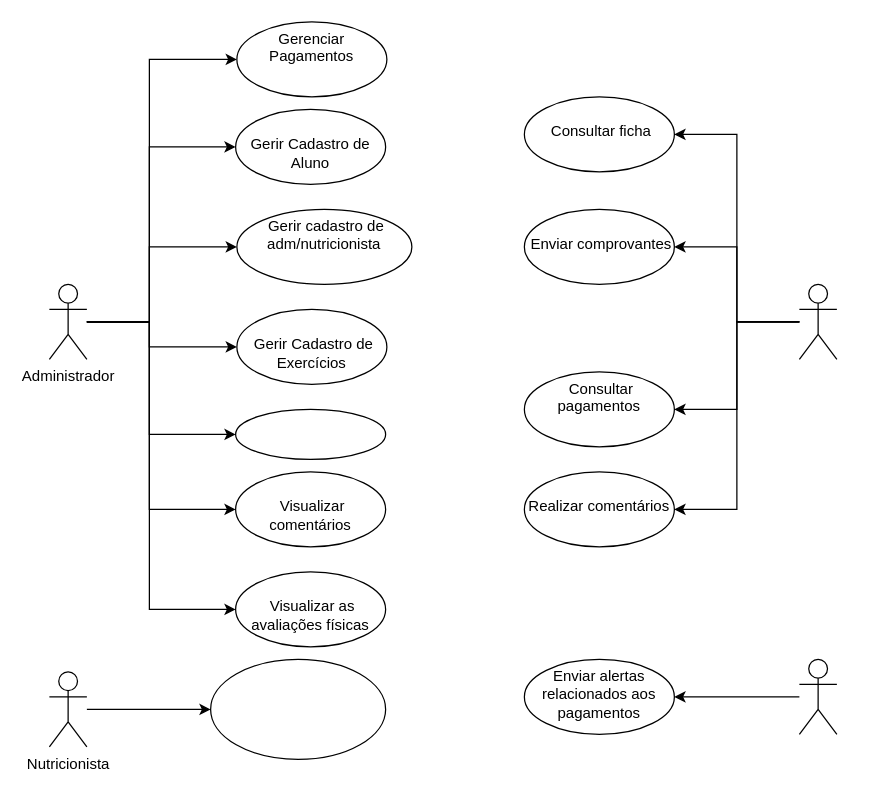
Image size: 883x795. Some labels were removed from this diagram. The shapes that lost their labels are listed below. From the top down, each one's box as (x1, y1, x2, y2) in pixels, then its label:
(798, 283, 837, 359): Aluno
(234, 408, 386, 459): Gerir Fichas
(209, 658, 386, 759): Cadastrar/Enviar dados da Avaliação física
(798, 658, 837, 734): temporizador
